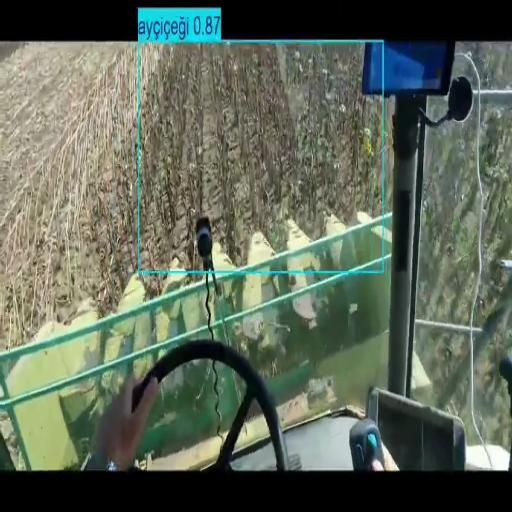ayc: (136, 46, 371, 269), (155, 299, 202, 338)
